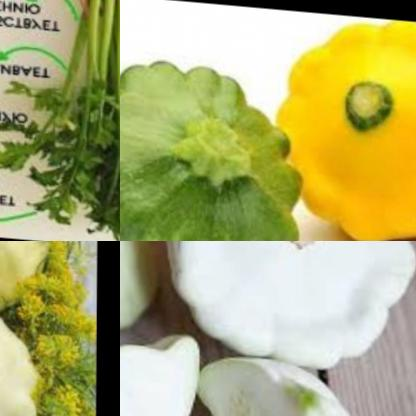celery: (5, 0, 120, 241), (0, 115, 89, 181)
squash-patisson: (120, 49, 307, 241), (274, 4, 416, 241), (167, 241, 416, 366), (195, 341, 381, 416), (120, 309, 213, 416), (0, 295, 52, 416)
